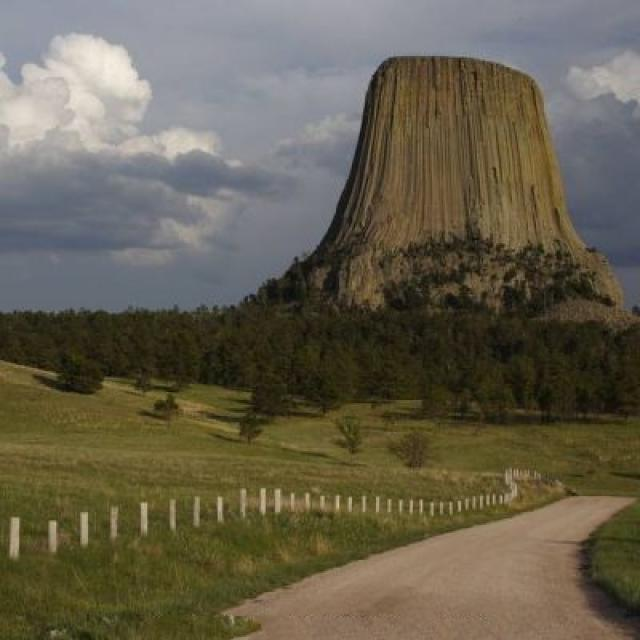Cu: (1, 26, 278, 253)
